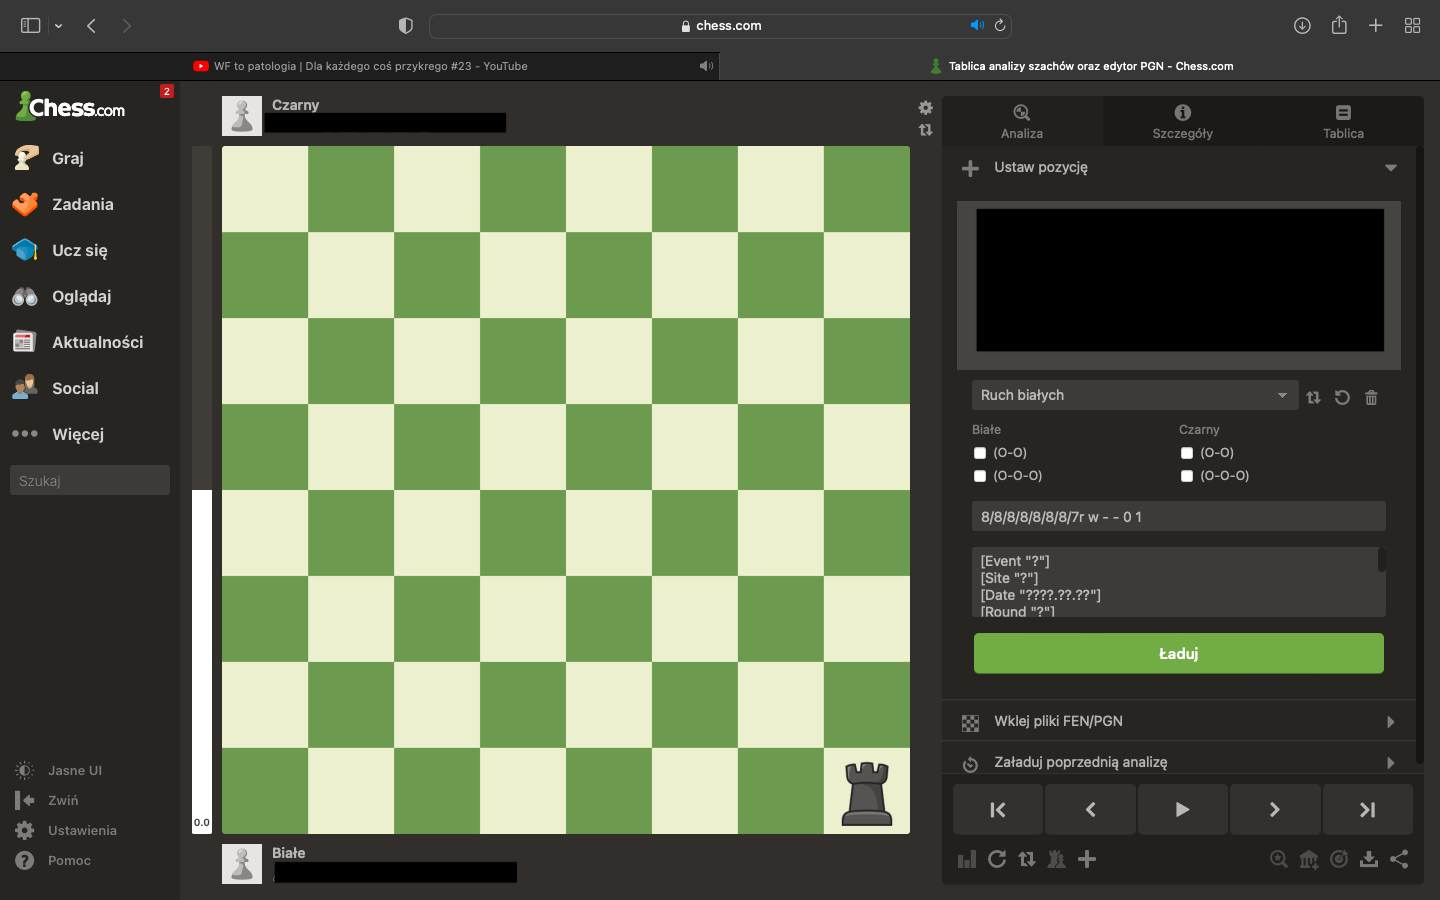black_rook: (841, 761, 893, 827)
